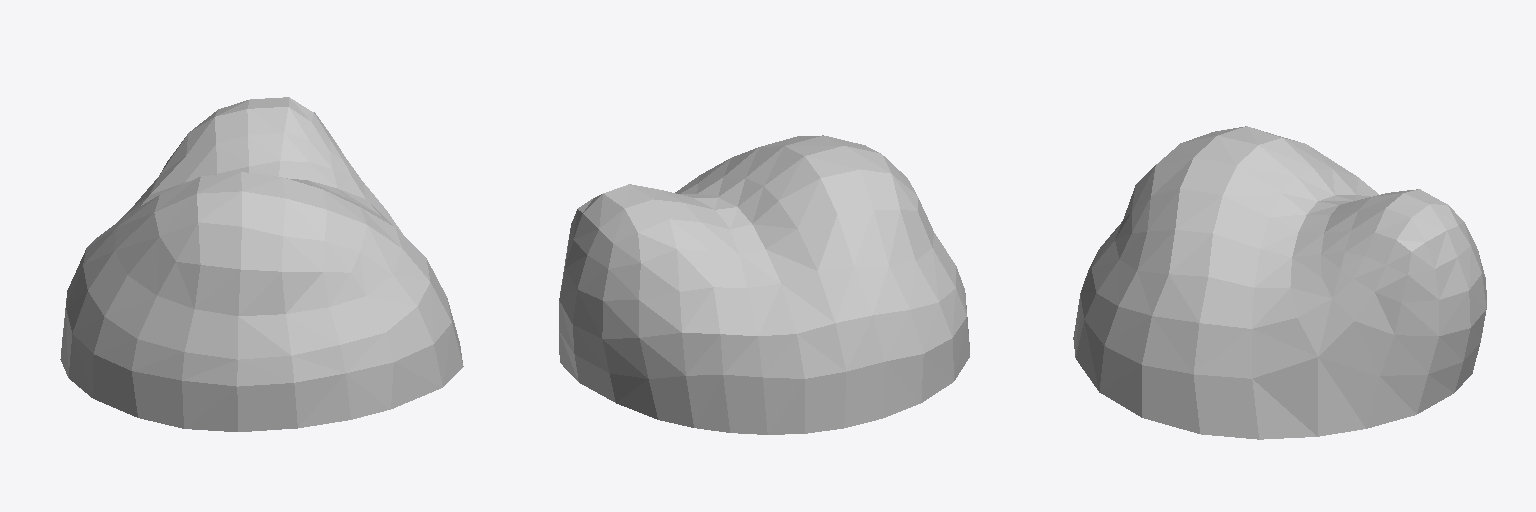
File: stone1.obj
3 renders of one model, left to right at view 1: azimuth 30°, elevation 25°; view 2: azimuth 150°, elevation 25°; view 3: azimuth 270°, elevation 25°, orthographic.
Parts seen in each view (by area): view 1: stone1_Group1; view 2: stone1_Group1; view 3: stone1_Group1.
Boxes of the visible parts, <box> form: stone1_Group1: <box>60,97,463,431</box>; stone1_Group1: <box>559,135,969,434</box>; stone1_Group1: <box>1073,126,1486,439</box>.
Bounding box in the file's own units: 2.19 × 1.18 × 2.24.